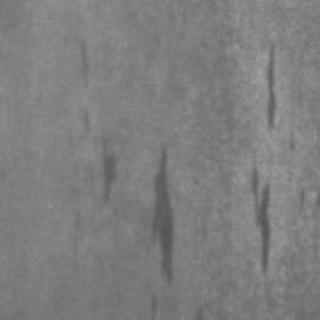inclusion: (134, 141, 182, 293), (66, 90, 120, 210), (238, 150, 278, 290), (245, 38, 285, 134), (66, 34, 94, 94)
